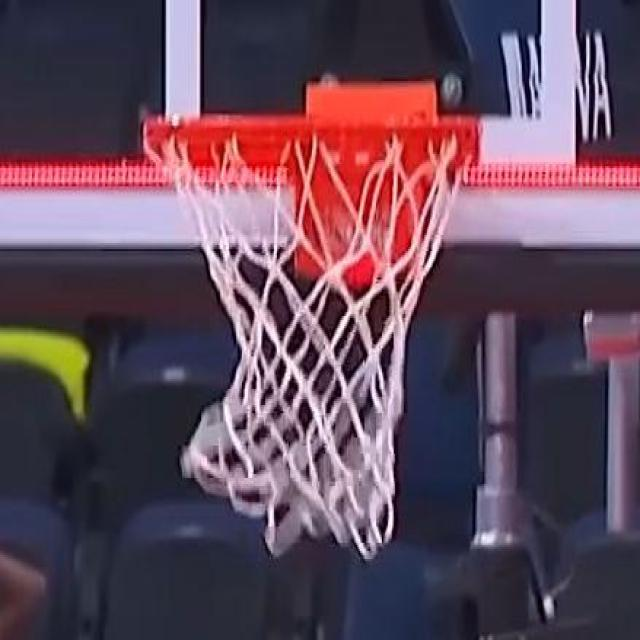hoop: (143, 57, 515, 545)
